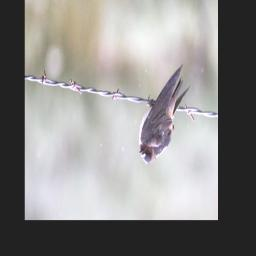Swallow: (138, 63, 191, 166)
